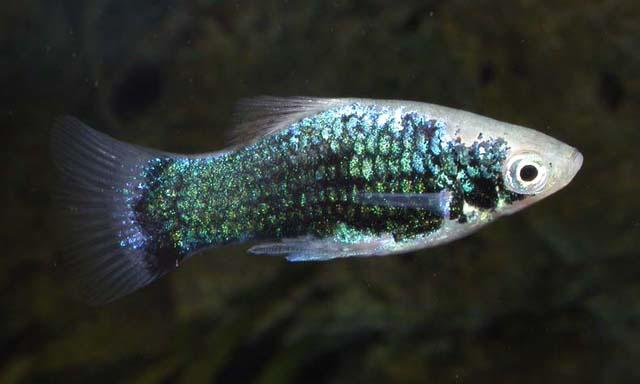Mulut: (546, 124, 596, 196)
Sirip Anal: (240, 219, 360, 285)
Sirip Dada: (312, 176, 466, 220)
Sirip Ekor: (25, 96, 178, 314)
Sirip Punggung: (218, 78, 380, 170)
